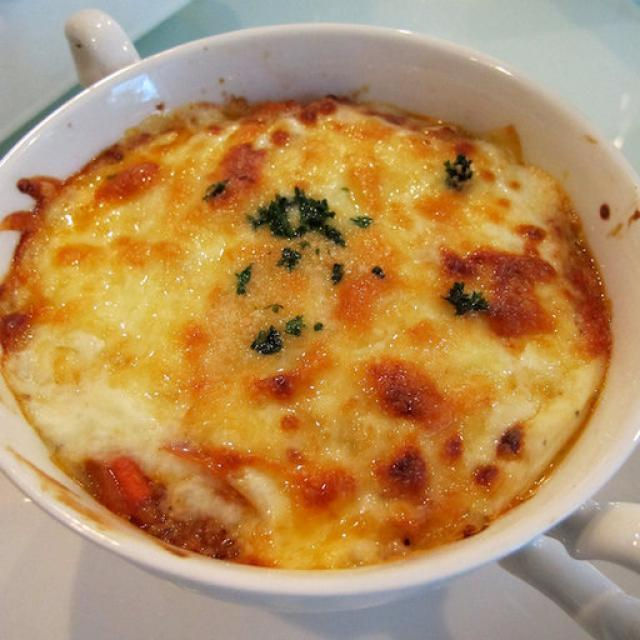Lasagna: (27, 99, 612, 583)
